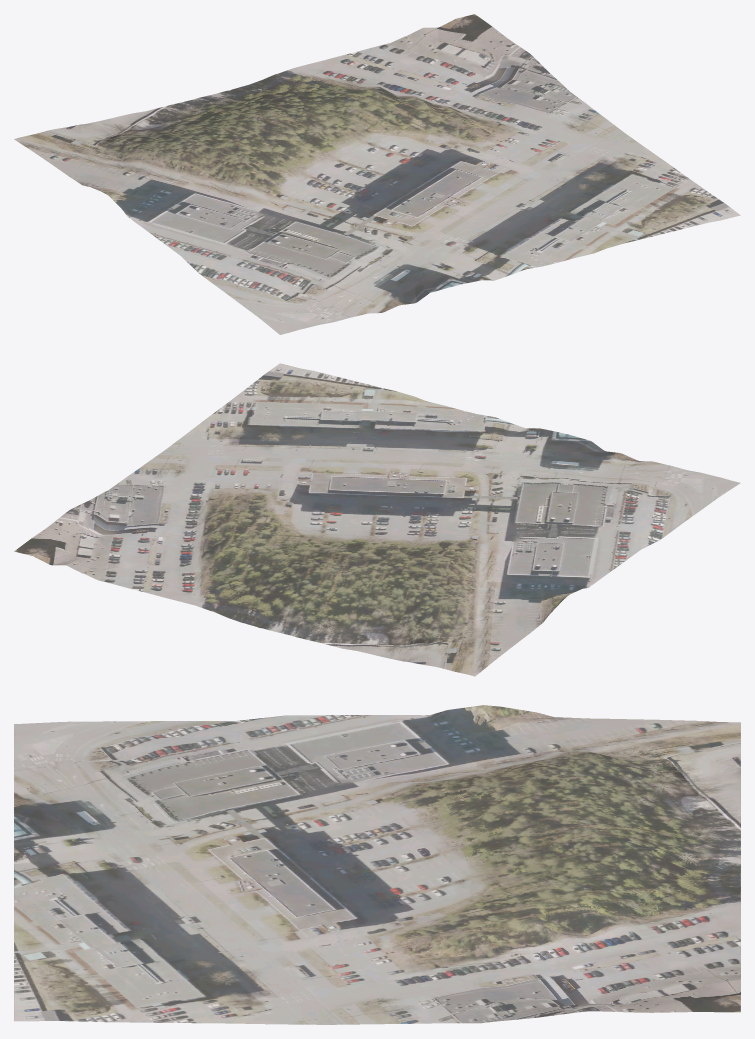
File: CM_Terrain_24492302_6815288.fbx
3 views of the same model, one above another, from view 1: azimuth 30°, elevation 25°; view 2: azimuth 150°, elevation 25°; view 3: azimuth 270°, elevation 25° (orthographic). The views are drawn at different scales.
Parts seen in each view (by area): view 1: CM_Terrain_24492302_6815288_LOD0; view 2: CM_Terrain_24492302_6815288_LOD0; view 3: CM_Terrain_24492302_6815288_LOD0.
Part boxes in pixels (x1,y1,x2,y2): CM_Terrain_24492302_6815288_LOD0: (14,14,740,334); CM_Terrain_24492302_6815288_LOD0: (14,363,740,676); CM_Terrain_24492302_6815288_LOD0: (14,705,740,1024).
Size of what is drawn, in the model's own units: 205 by 9.46 by 205.
